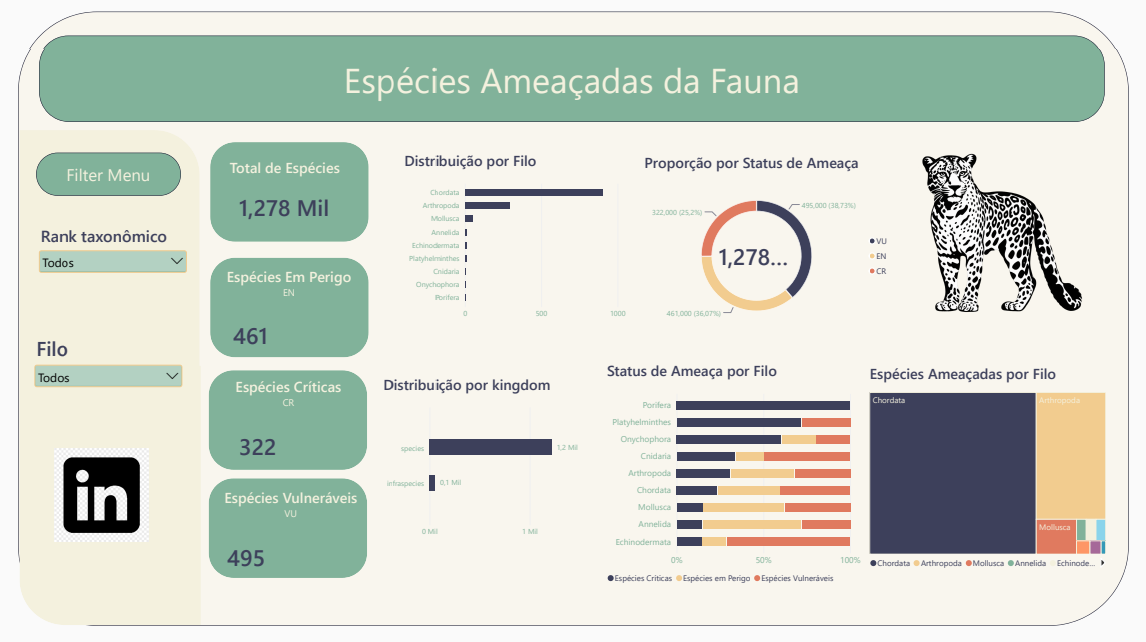

This screenshot's page, from the dashboard's own definition file:
{"tool":"powerbi","page":{"name":"Página 1","canvas":[1920,1080],"ordinal":0},"visuals":[{"type":"shape","box":[34,28,1850,1023.4],"z":0,"group":"g1"},{"type":"shape","box":[70,263.3,206.7,66.7],"z":0},{"type":"group","id":"g1","title":"Grupo 1","box":[34,28,1850,1023.4],"z":1000},{"type":"shape","box":[69,69.1,1775,144],"z":1000,"group":"g2"},{"type":"shape","box":[36,224.5,300,675.4],"z":2000,"group":"g1"},{"type":"shape","box":[64.7,264.6,241.4,72],"z":2000,"group":"g2"},{"type":"slicer","fields":{"Values":["dw_especies dim_taxon.kingdom"]},"box":[64,382,256,146],"z":2000},{"type":"slicer","fields":{"Values":["dw_especies dim_taxon.class"]},"box":[58,566,256,114],"z":3000},{"type":"shape","box":[36,618,302,432],"z":3000,"group":"g1"},{"type":"image","box":[82,756,184,156],"z":4000},{"type":"shape","box":[356,246,264,166],"z":5000},{"type":"group","id":"g2","title":"Grupo 2","box":[64.7,69.1,1779.3,267.5],"z":5001,"group":"g1"},{"type":"cardVisual","title":"Total de Espécies","fields":{"Data":["fato_distribuicao.Total_Geral_Especies"]},"box":[387.5,270,192.5,132.5],"z":6000},{"type":"donutChart","title":"Proporção por Status de Ameaça","fields":{"Category":["fato_distribuicao.threat_status"],"Y":["fato_distribuicao.Total_Geral_Especies"]},"box":[1062.5,247.5,445,327.5],"z":7000},{"type":"clusteredBarChart","title":"Distribuição por Filo","fields":{"Category":["dw_especies dim_taxon.class"],"Y":["fato_distribuicao.Total_Geral_Especies"]},"box":[662,244,400,314],"z":8000},{"type":"treemap","title":"Espécies Ameaçadas por Filo","fields":{"Group":["dw_especies dim_taxon.class"],"Values":["dw_especies dim_taxon.Total Ameaçadas"]},"box":[1438.3,600,425,376.7],"z":9000},{"type":"shape","box":[352,806,264,166],"z":9000,"group":"g5"},{"type":"hundredPercentStackedBarChart","title":"Status de Ameaça por Filo","fields":{"Category":["dw_especies dim_taxon.class"],"Y":["dw_especies dim_taxon._%_Especies_CR","dw_especies dim_taxon._%_Especies_EN","dw_especies dim_taxon._%_Especies_VU"]},"box":[1000,595,455,406.7],"z":10000},{"type":"shape","box":[352,624,264,166],"z":10000,"group":"g4"},{"type":"cardVisual","title":"Espécies Vulneráveis ","fields":{"Data":["dw_especies dim_taxon.Especies_VU"]},"box":[366,820,244,156],"z":10000,"group":"g5"},{"type":"group","id":"g3","title":"Grupo 3","box":[356,438,264,166],"z":11000},{"type":"shape","box":[356,438,264,166],"z":11000,"group":"g3"},{"type":"cardVisual","title":"Espécies Em Perigo","fields":{"Data":["dw_especies dim_taxon.Especies_EN"]},"box":[378,452,218,152],"z":12000,"group":"g3"},{"type":"group","id":"g4","title":"Grupo 4","box":[352,624,264,166],"z":12000},{"type":"cardVisual","title":"Espécies Críticas","fields":{"Data":["dw_especies dim_taxon.Especies_CR"]},"box":[386,634,196,156],"z":13000,"group":"g4"},{"type":"group","id":"g5","title":"Grupo 5","box":[352,806,264,170],"z":13000},{"type":"image","box":[1508,244,330,304],"z":14000},{"type":"clusteredBarChart","title":"Distribuição por kingdom","fields":{"Category":["dw_especies dim_taxon.kingdom"],"Y":["fato_distribuicao.Total_Geral_Especies"]},"box":[627.3,618,373.3,305],"z":16001,"group":"g1"}]}

Visuals, with their boxes in screenshot pixels (x1, y1, x2, y2), scaled from the page's 1920x1080 canvas onto the 1146x642 screenshot:
shape: bbox=(20, 17, 1125, 625)
shape: bbox=(42, 157, 165, 196)
"Grupo 1" group: bbox=(20, 17, 1125, 625)
shape: bbox=(41, 41, 1101, 127)
shape: bbox=(21, 133, 201, 535)
shape: bbox=(39, 157, 183, 200)
slicer - dw_especies dim_taxon.kingdom: bbox=(38, 227, 191, 314)
slicer - dw_especies dim_taxon.class: bbox=(35, 336, 187, 404)
shape: bbox=(21, 367, 202, 624)
image: bbox=(49, 449, 159, 542)
shape: bbox=(212, 146, 370, 245)
"Grupo 2" group: bbox=(39, 41, 1101, 200)
"Total de Espécies" cardVisual: bbox=(231, 160, 346, 239)
"Proporção por Status de Ameaça" donutChart: bbox=(634, 147, 900, 342)
"Distribuição por Filo" clusteredBarChart: bbox=(395, 145, 634, 332)
"Espécies Ameaçadas por Filo" treemap: bbox=(858, 357, 1112, 581)
shape: bbox=(210, 479, 368, 578)
"Status de Ameaça por Filo" hundredPercentStackedBarChart: bbox=(597, 354, 868, 595)
shape: bbox=(210, 371, 368, 470)
"Espécies Vulneráveis " cardVisual: bbox=(218, 487, 364, 580)
"Grupo 3" group: bbox=(212, 260, 370, 359)
shape: bbox=(212, 260, 370, 359)
"Espécies Em Perigo" cardVisual: bbox=(226, 269, 356, 359)
"Grupo 4" group: bbox=(210, 371, 368, 470)
"Espécies Críticas" cardVisual: bbox=(230, 377, 347, 470)
"Grupo 5" group: bbox=(210, 479, 368, 580)
image: bbox=(900, 145, 1097, 326)
"Distribuição por kingdom" clusteredBarChart: bbox=(374, 367, 597, 549)
